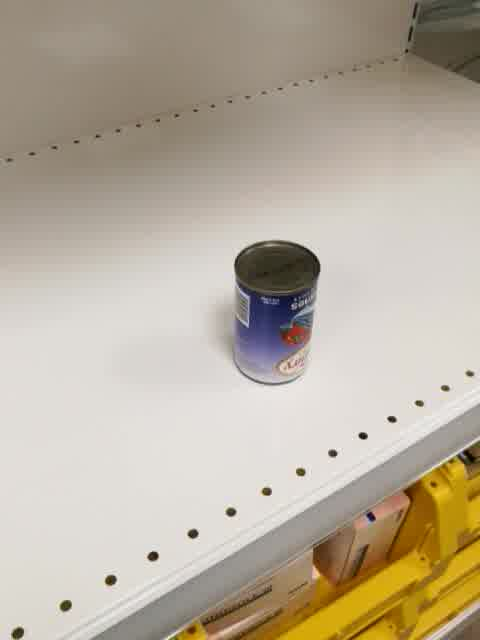sardine: (231, 240, 321, 386)
